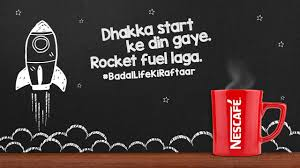nescafe-mug: (209, 89, 288, 158)
